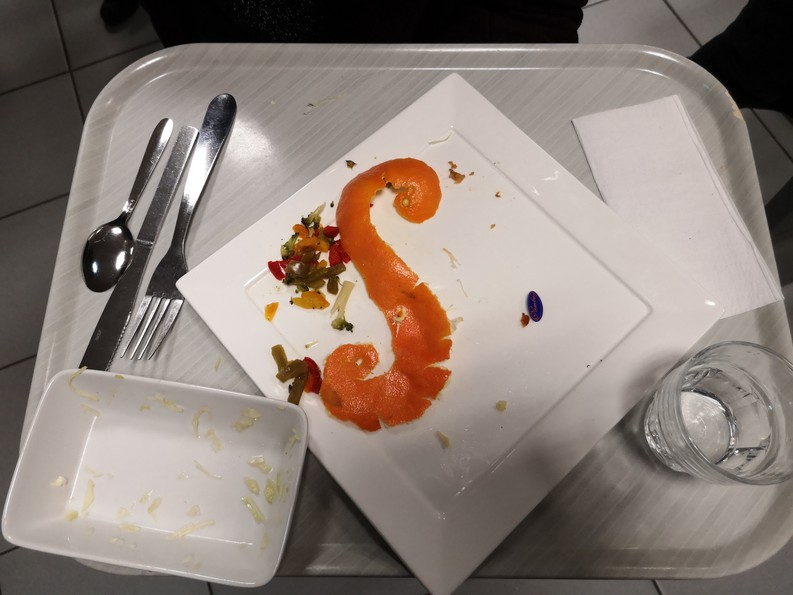cup: (648, 338, 793, 500)
cutlery: (73, 94, 248, 392)
orga: (336, 159, 466, 444), (278, 211, 339, 313)
trash: (576, 78, 787, 321)
